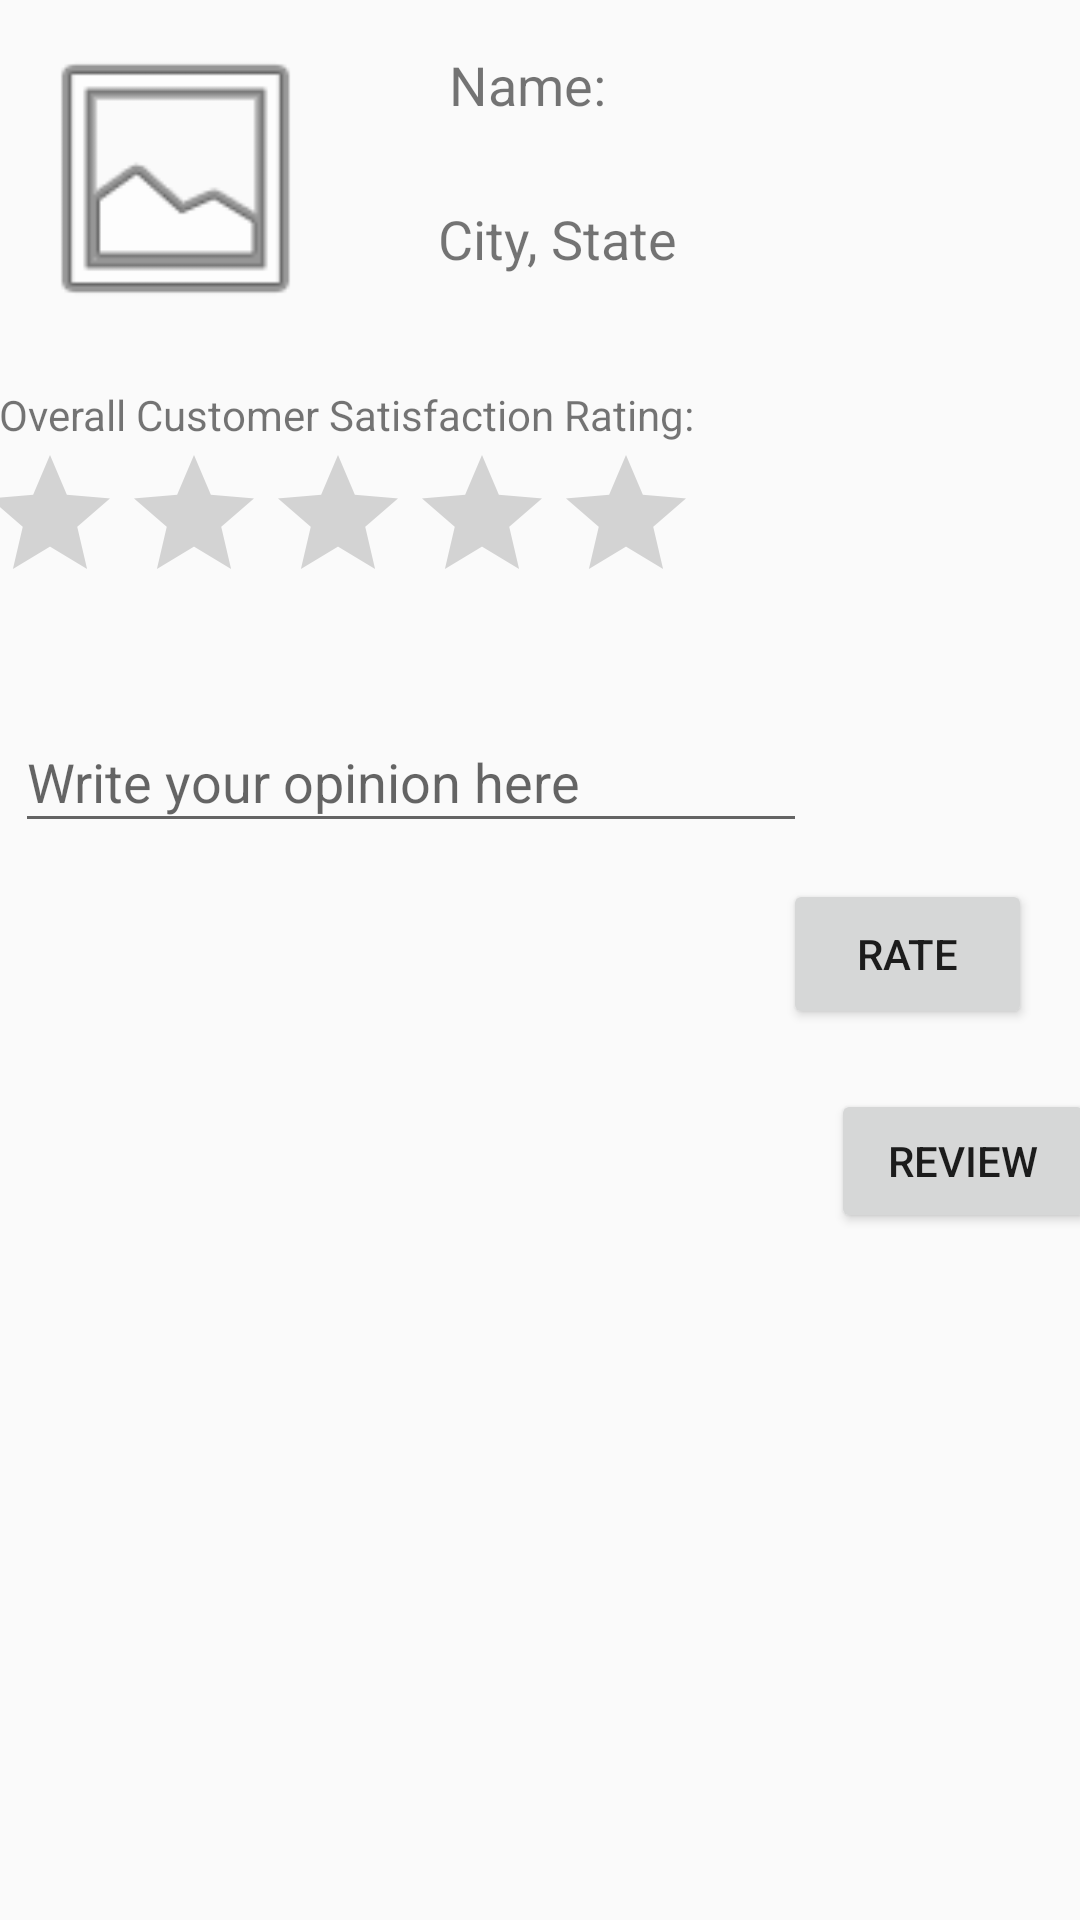

Icon click points for this 1080px x 1920px phone screenshot, format [x,y]:
gallery: [175,178]
